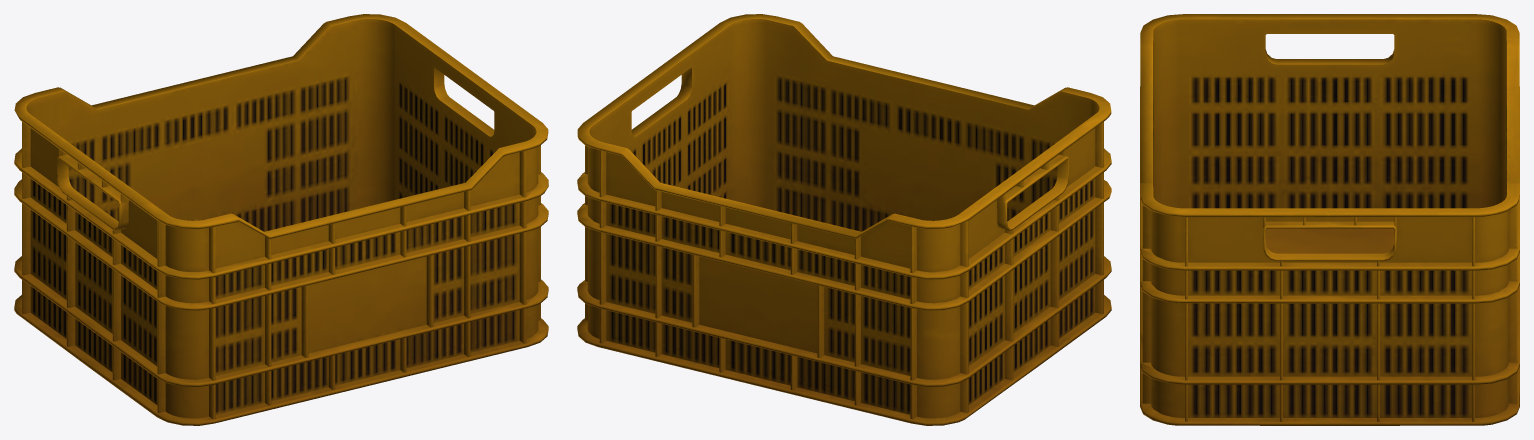
File: plastic_crate.glb
3 views of the same model, side by side, from view 1: azimuth 30°, elevation 25°; view 2: azimuth 150°, elevation 25°; view 3: azimuth 270°, elevation 25° (orthographic). The views are drawn at different scales.
Visible parts, largest first — view 1: plastic_crate_02; view 2: plastic_crate_02; view 3: plastic_crate_02.
Part boxes in pixels (x1,y1,x2,y2): plastic_crate_02: [14, 14, 548, 425]; plastic_crate_02: [577, 14, 1111, 425]; plastic_crate_02: [1140, 14, 1519, 425].
Bounding box in the file's own units: 0.5055 × 0.2541 × 0.4055.
1 material, 1 textured.
